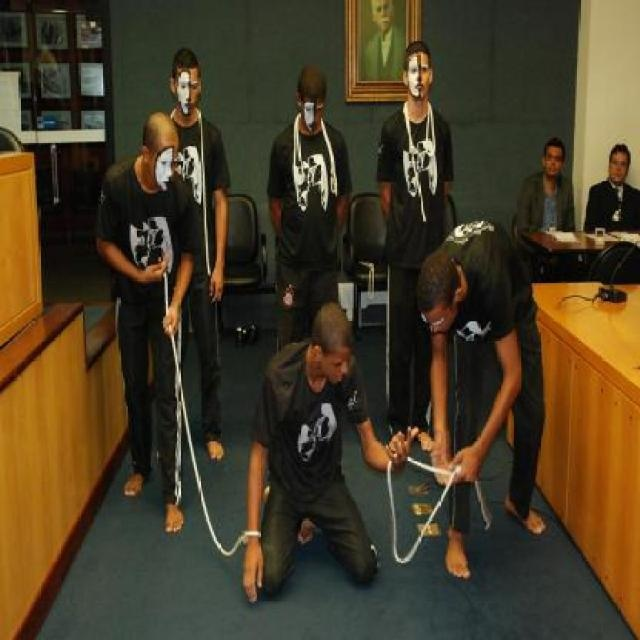obstacle: (242, 300, 420, 603), (416, 222, 546, 578), (94, 111, 200, 534), (373, 39, 455, 452), (154, 44, 232, 461), (266, 60, 354, 348), (516, 134, 575, 232), (581, 142, 640, 233), (358, 0, 409, 80)
